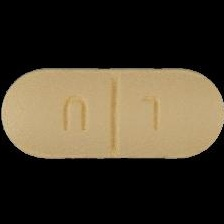33261-346: (0, 0, 224, 224)
